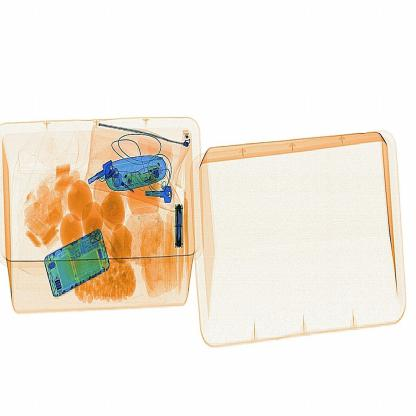scissors: (163, 195, 193, 257)
